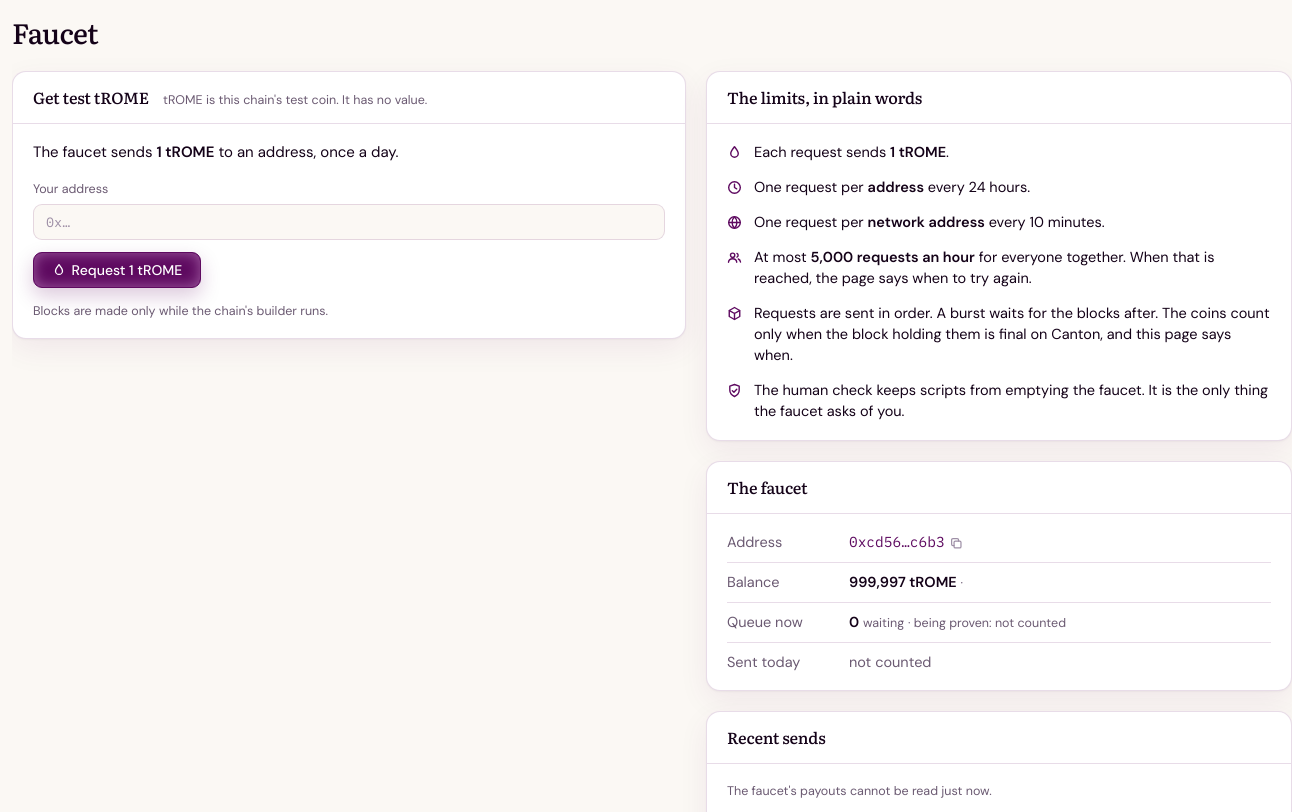
Test: the human check › shows the faucet's words when the check is not passed
In the field labelled "Your address": (349, 222) [33,204,665,240], type "0x5a04de5c5ebd085f5e3b3ec791ab5cdc8e2b56f0"
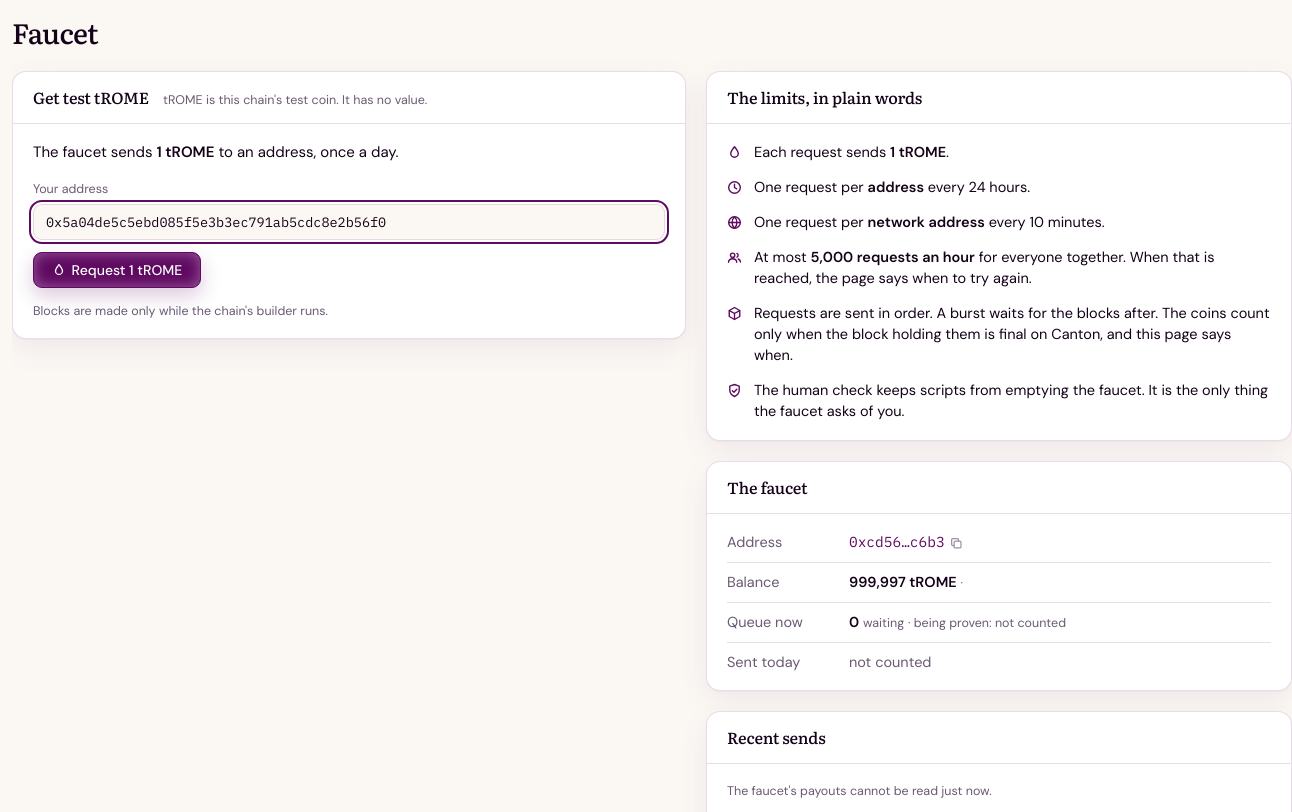
Click the button "Request 1 tROME": (117, 270) [33,252,201,288]
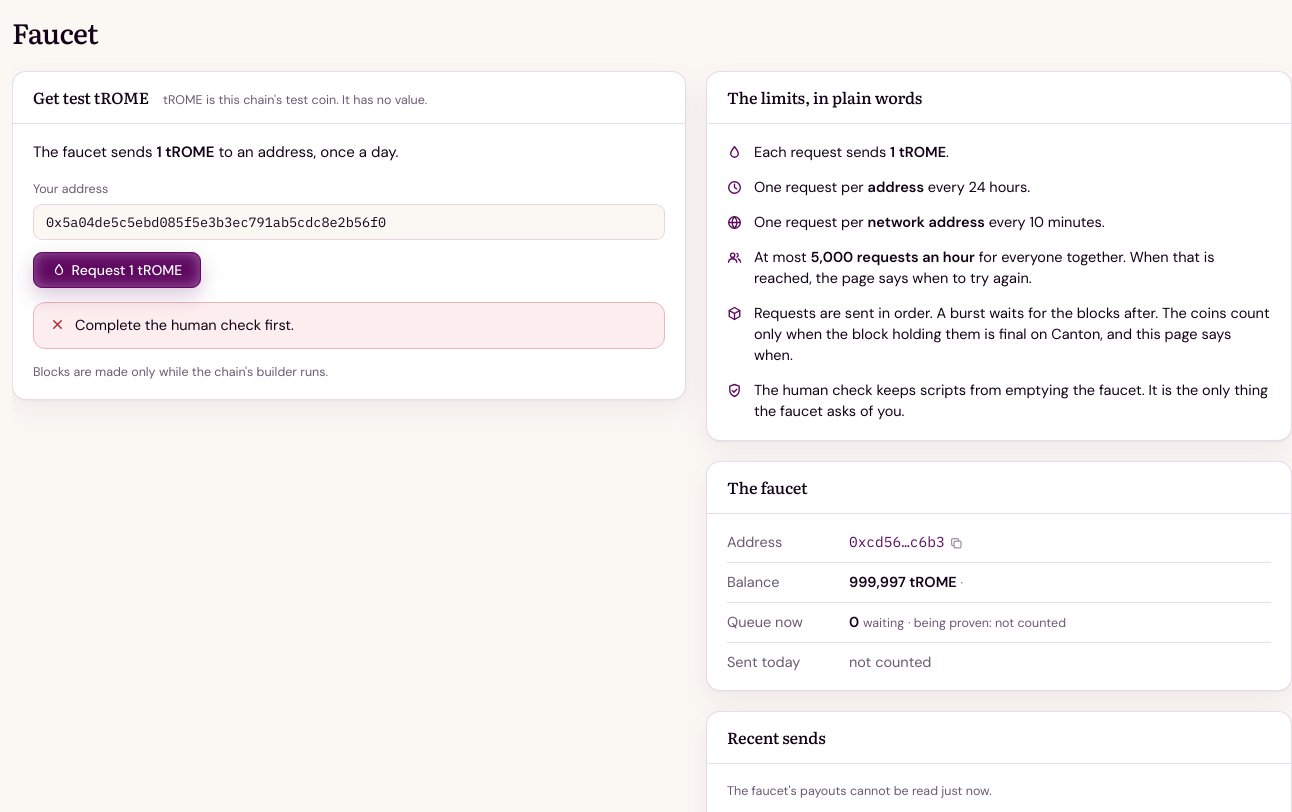
Check: the message reads "Complete the human check first.", box [75,316,294,334]
